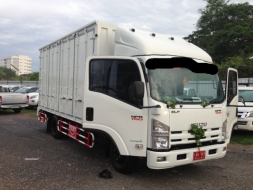truck: (36, 19, 227, 174)
